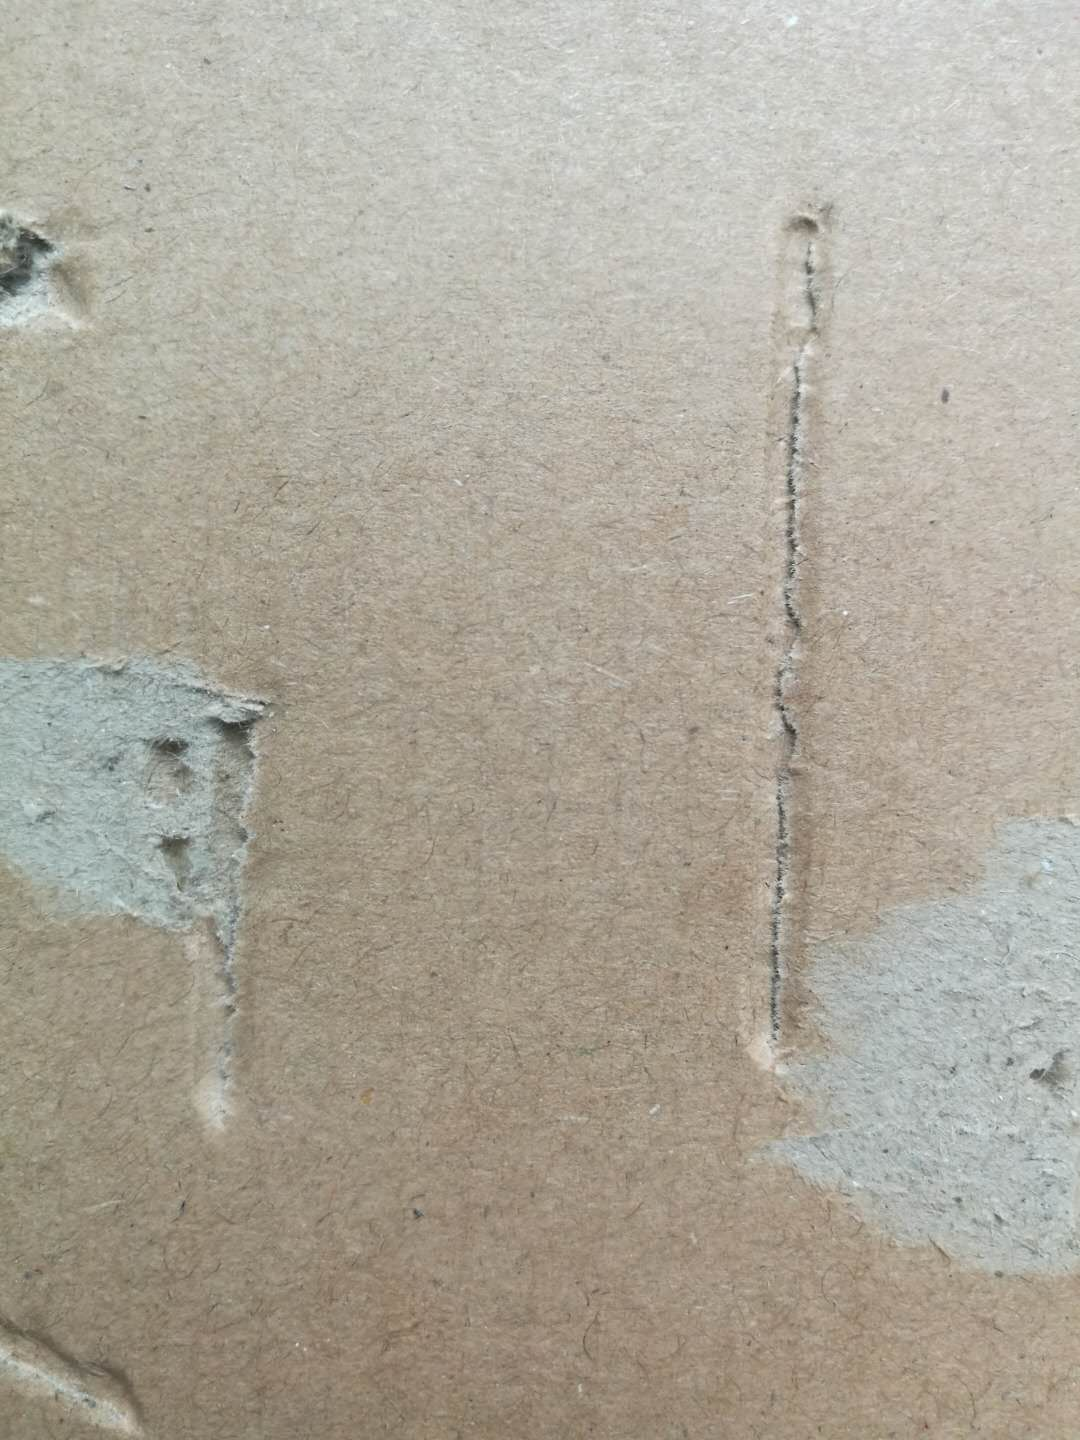defect: (702, 781, 1080, 1345), (1, 585, 328, 1208), (680, 158, 874, 1106), (2, 159, 140, 390), (2, 1282, 166, 1440)
